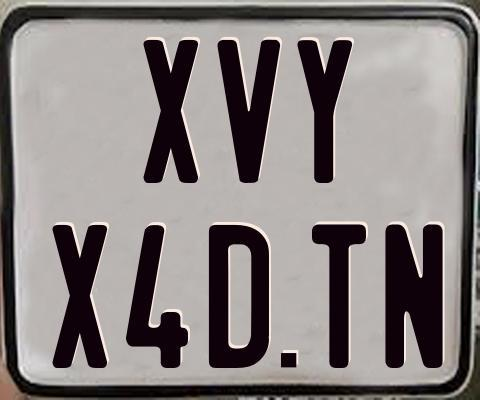4: (125, 222, 192, 367)
D: (209, 225, 270, 371)
N: (382, 222, 443, 369)
T: (310, 221, 369, 367)
V: (216, 38, 283, 181)
X: (141, 38, 201, 185), (52, 224, 107, 367)
Y: (295, 37, 350, 185)
